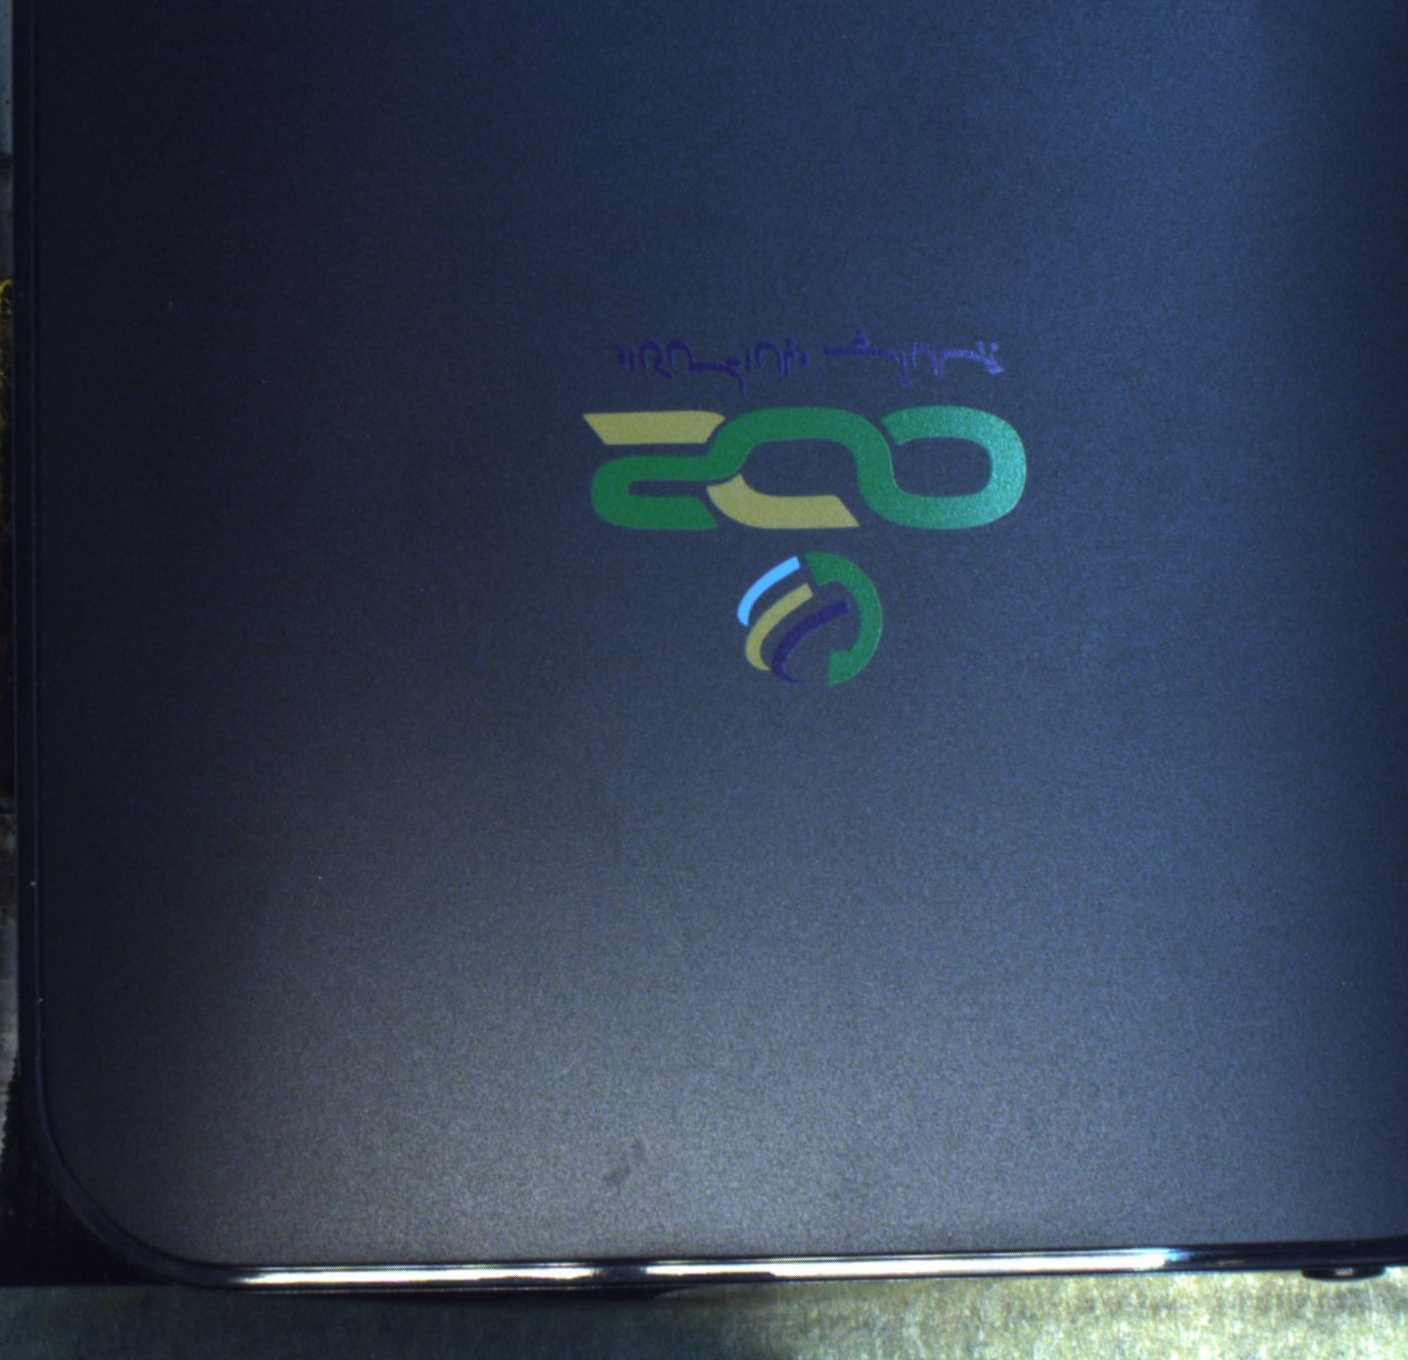BZ_HG680PSCOFirbeHome: (551, 310, 1074, 703)
